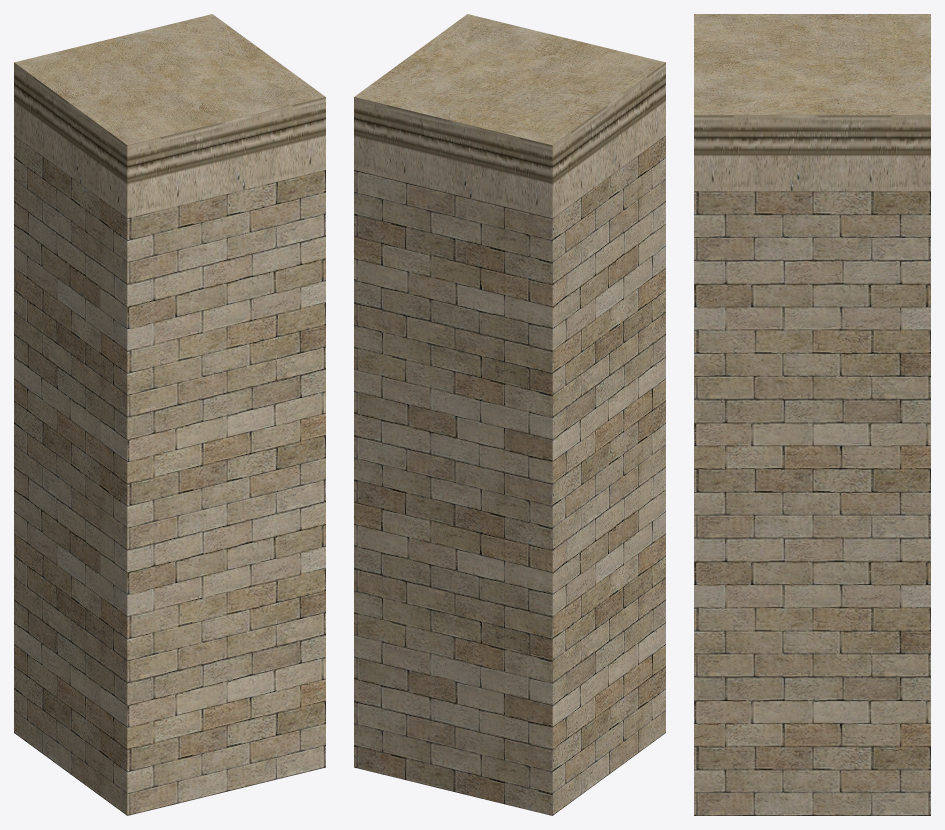
Rendered from thm_nboo_imprv_spill_gate_pillar_s01_l1.fbx.
3 renders of one model, left to right at view 1: azimuth 30°, elevation 25°; view 2: azimuth 150°, elevation 25°; view 3: azimuth 270°, elevation 25°, orthographic. The views are drawn at different scales.
Visible parts, largest first — view 1: mesh_node; view 2: mesh_node; view 3: mesh_node.
Part boxes in pixels (<box>): mesh_node: <box>14,14,325,815</box>; mesh_node: <box>354,14,665,815</box>; mesh_node: <box>694,14,930,815</box>.
Size of the model in its own units: 1.48 by 4.77 by 1.46.
